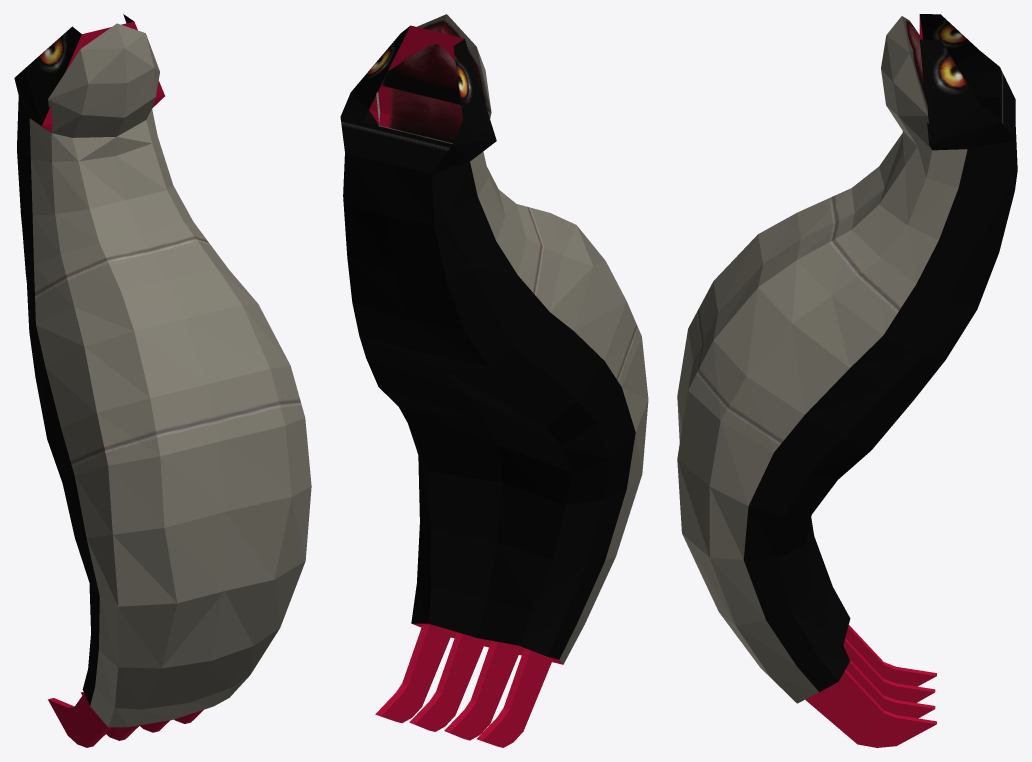
The model's file is BR_Groudon.obj.
3 renders of one model, left to right at view 1: azimuth 30°, elevation 25°; view 2: azimuth 150°, elevation 25°; view 3: azimuth 270°, elevation 25°, orthographic. The views are drawn at different scales.
Parts seen in each view (by area): view 1: groudon; view 2: groudon; view 3: groudon.
Part boxes in pixels (bbox=[...]): groudon: bbox=[14, 14, 311, 747]; groudon: bbox=[340, 14, 648, 747]; groudon: bbox=[677, 14, 1017, 747].
Size of the model in its own units: 18.53 by 58.28 by 25.42.
3 materials, 3 textured.
